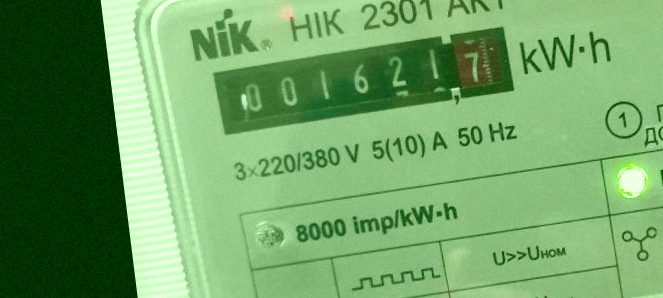0: (275, 71, 302, 110), (241, 77, 265, 113)
1: (424, 43, 442, 82), (315, 65, 333, 102)
2: (385, 51, 410, 90)
6: (348, 60, 371, 96)
7: (460, 47, 484, 85)
screen: (206, 22, 522, 140)
